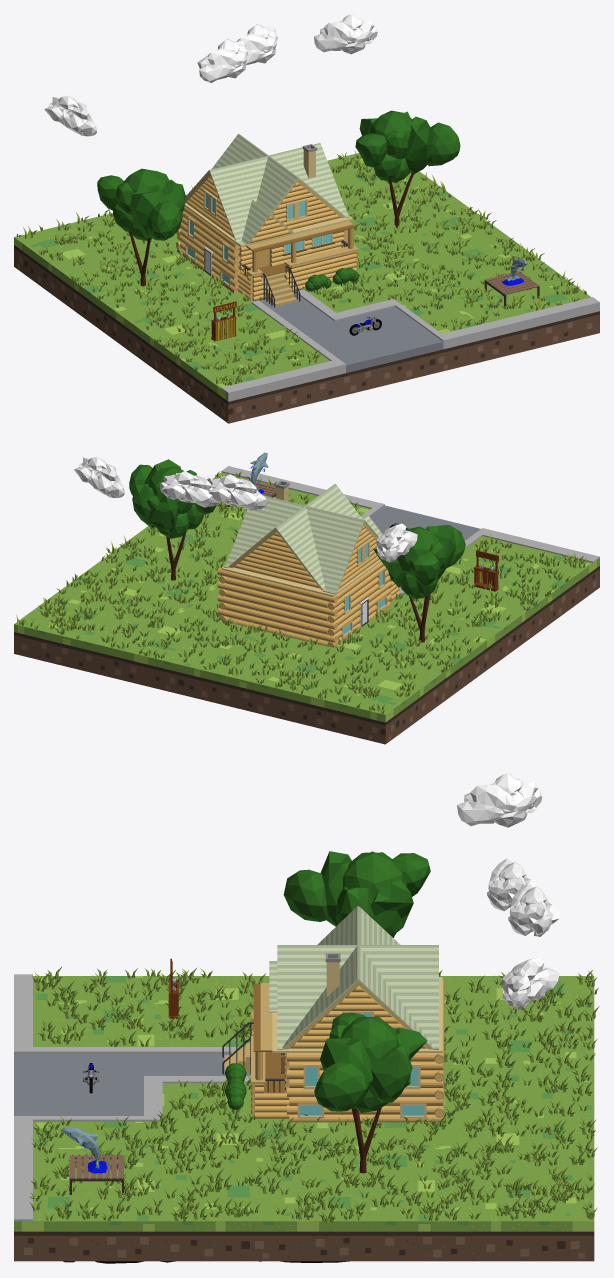
The picture shows the model from 3 angles, top to bottom: view 1: azimuth 30°, elevation 25°; view 2: azimuth 150°, elevation 25°; view 3: azimuth 270°, elevation 25°; orthographic projection. The views are drawn at different scales.
Visible parts, largest first — view 1: Cube.006, Cube.1516, Circle.012_Grass_0.192, Cube.007, tree, tree.001, OBJRANDOM_LEMONADE_STAND, Cube.009; view 2: Cube.006, Cube.1516, Circle.012_Grass_0.192, Cube.007, tree.001, tree, OBJRANDOM_LEMONADE_STAND; view 3: Cube.006, Circle.012_Grass_0.192, Cube.1516, tree, Cube.007, tree.001, Cube.009, ANIMAL_DELFIN.
Boxes of the visible parts, x1,y1,x2,y2 form: Cube.006: (14, 153, 599, 423); Cube.1516: (176, 134, 358, 307); Circle.012_Grass_0.192: (16, 150, 586, 385); Cube.007: (44, 14, 377, 136); tree: (355, 110, 460, 227); tree.001: (97, 168, 185, 286); OBJRANDOM_LEMONADE_STAND: (211, 301, 236, 341); Cube.009: (484, 271, 539, 306); Cube.006: (14, 466, 599, 744); Cube.1516: (217, 480, 399, 647); Circle.012_Grass_0.192: (16, 471, 586, 713); Cube.007: (74, 456, 417, 562); tree.001: (373, 524, 465, 642); tree: (129, 459, 216, 580); OBJRANDOM_LEMONADE_STAND: (473, 550, 498, 591); Cube.006: (14, 974, 594, 1261); Circle.012_Grass_0.192: (29, 967, 599, 1222); Cube.1516: (222, 906, 444, 1122); tree: (314, 1012, 427, 1173); Cube.007: (457, 773, 559, 1009); tree.001: (283, 851, 430, 937); Cube.009: (69, 1154, 123, 1194); ANIMAL_DELFIN: (60, 1127, 108, 1173).
Bounding box in the file's own units: 4071 × 2149 × 4040.
Materials: 38 (4 with a texture image).
